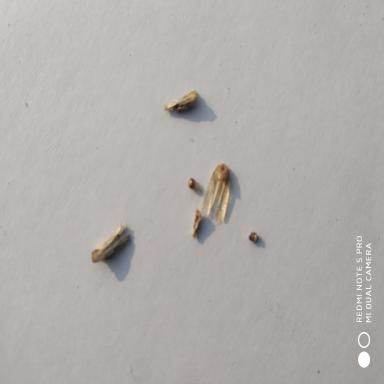pbw: (196, 158, 237, 226), (86, 216, 135, 268), (159, 90, 205, 116)
